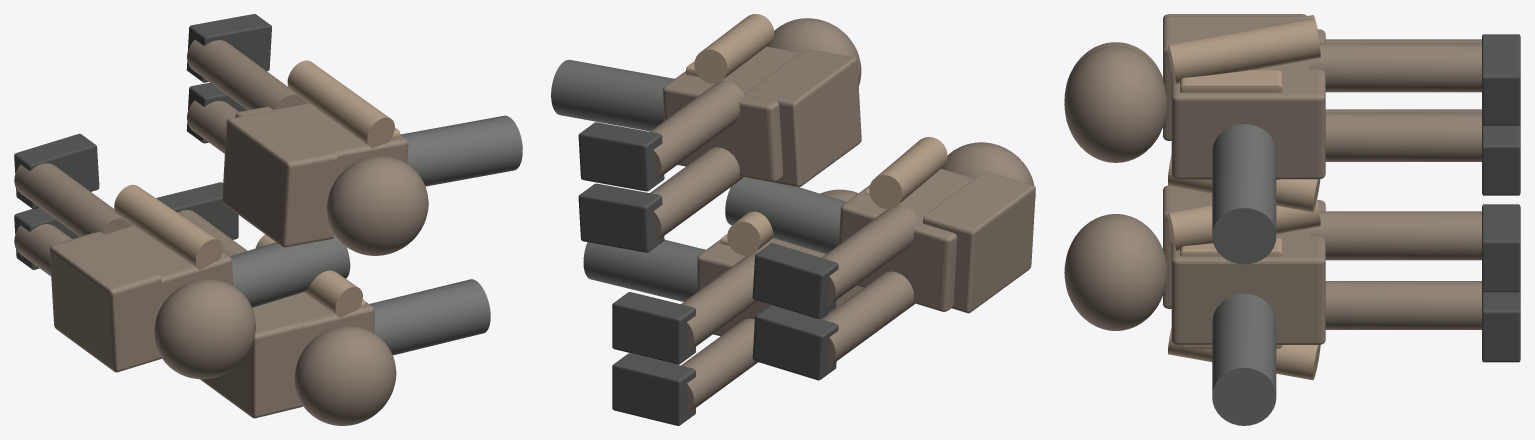
The model's file is d-u04-dominion-anti-tank-team-lod1.glb.
3 renders of one model, left to right at view 1: azimuth 30°, elevation 25°; view 2: azimuth 150°, elevation 25°; view 3: azimuth 270°, elevation 25°, orthographic. The views are drawn at different scales.
Parts seen in each view (by area): view 1: soldier_0_backpack, soldier_2_backpack, soldier_2_helmet, soldier_1_helmet, soldier_0_helmet, soldier_1_backpack, soldier_1_launcher, soldier_0_launcher, soldier_2_launcher, soldier_2_leg_1, soldier_0_leg_1, soldier_0_arm_1 (+13 smaller); view 2: soldier_0_backpack, soldier_2_backpack, soldier_2_torso, soldier_0_torso, soldier_0_launcher, soldier_2_launcher, soldier_1_launcher, soldier_2_boot_1, soldier_2_boot_-1, soldier_1_boot_-1, soldier_1_boot_1, soldier_0_boot_1 (+13 smaller); view 3: soldier_1_torso, soldier_0_torso, soldier_0_helmet, soldier_1_helmet, soldier_0_launcher, soldier_0_leg_1, soldier_1_leg_1, soldier_0_leg_-1, soldier_1_launcher, soldier_1_leg_-1, soldier_0_arm_1, soldier_0_boot_1 (+14 smaller).
Boxes of the visible parts, x1,y1,x2,y2 form: soldier_0_backpack: [222, 110, 338, 247]; soldier_2_backpack: [49, 232, 162, 372]; soldier_2_helmet: [154, 279, 255, 379]; soldier_1_helmet: [294, 326, 396, 425]; soldier_0_helmet: [327, 156, 428, 255]; soldier_1_backpack: [200, 301, 303, 418]; soldier_1_launcher: [369, 279, 490, 355]; soldier_0_launcher: [400, 115, 522, 186]; soldier_2_launcher: [230, 234, 350, 307]; soldier_2_leg_1: [14, 163, 132, 236]; soldier_0_leg_1: [187, 40, 307, 109]; soldier_0_arm_1: [287, 60, 394, 148]; soldier_0_backpack: [745, 49, 861, 187]; soldier_2_backpack: [923, 171, 1035, 313]; soldier_2_torso: [838, 168, 974, 311]; soldier_0_torso: [662, 46, 800, 181]; soldier_0_launcher: [551, 59, 674, 131]; soldier_2_launcher: [725, 177, 846, 253]; soldier_1_launcher: [583, 240, 705, 301]; soldier_2_boot_1: [752, 243, 838, 318]; soldier_2_boot_-1: [752, 305, 838, 380]; soldier_1_boot_-1: [612, 353, 695, 425]; soldier_1_boot_1: [612, 292, 695, 364]; soldier_0_boot_1: [578, 122, 664, 191]; soldier_1_torso: [1171, 200, 1325, 344]; soldier_0_torso: [1171, 29, 1325, 179]; soldier_0_helmet: [1064, 45, 1167, 162]; soldier_1_helmet: [1064, 214, 1167, 330]; soldier_0_launcher: [1212, 124, 1276, 264]; soldier_0_leg_1: [1309, 43, 1481, 92]; soldier_1_leg_1: [1309, 211, 1481, 260]; soldier_0_leg_-1: [1325, 112, 1481, 161]; soldier_1_launcher: [1212, 293, 1276, 425]; soldier_1_leg_-1: [1325, 281, 1481, 329]; soldier_0_arm_1: [1168, 18, 1320, 83]; soldier_0_boot_1: [1482, 34, 1520, 125].
Size of what is drawn, in the model's own units: 2.69 by 1.89 by 2.13.
